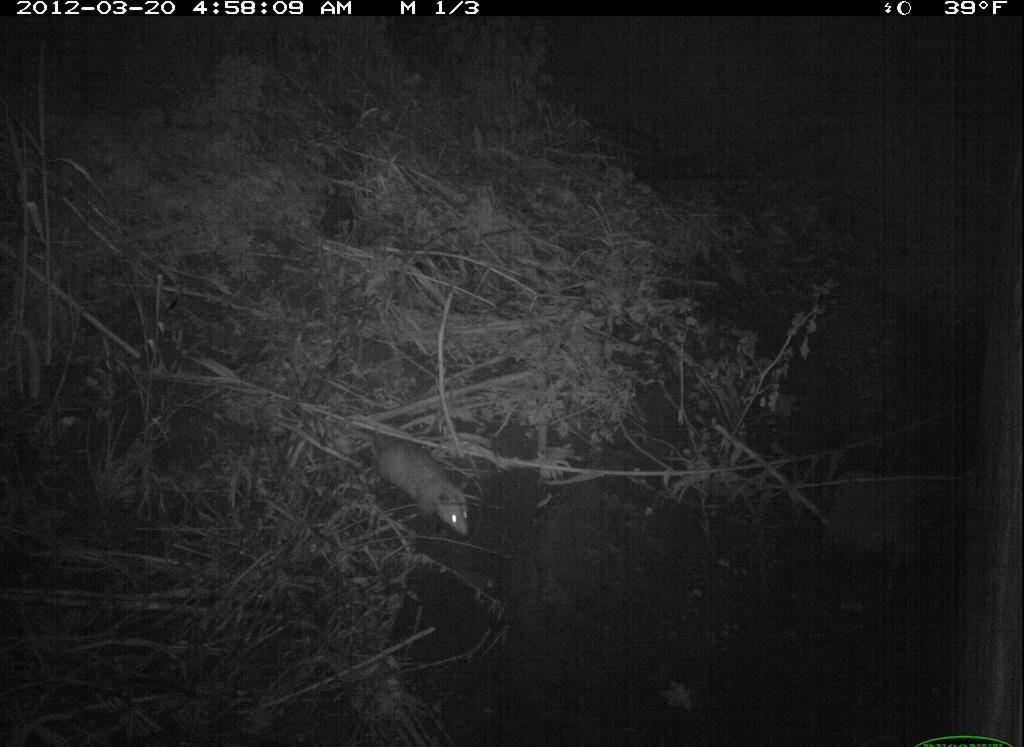opossum: (360, 428, 509, 552)
